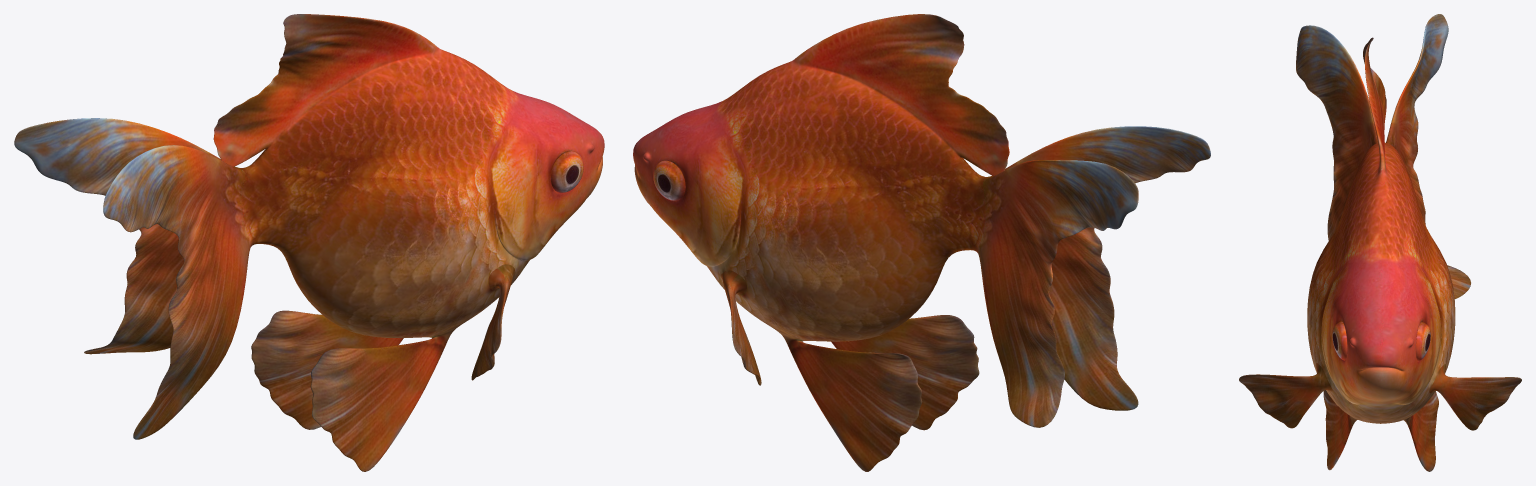
File: ikan-mas-ryukin.glb
3 views of the same model, side by side, from view 1: azimuth 30°, elevation 25°; view 2: azimuth 150°, elevation 25°; view 3: azimuth 270°, elevation 25° (orthographic). The views are drawn at different scales.
Parts seen in each view (by area): view 1: 13001_Ryukin_Goldfish_v1_L3; view 2: 13001_Ryukin_Goldfish_v1_L3; view 3: 13001_Ryukin_Goldfish_v1_L3.
Part boxes in pixels (box(x1,y1,x2,y2)): 13001_Ryukin_Goldfish_v1_L3: box(14, 14, 604, 471); 13001_Ryukin_Goldfish_v1_L3: box(633, 14, 1210, 471); 13001_Ryukin_Goldfish_v1_L3: box(1239, 14, 1521, 471).
Size of the model in its own units: 10.52 by 8.24 by 5.17.
Materials: 1 (1 with a texture image).
